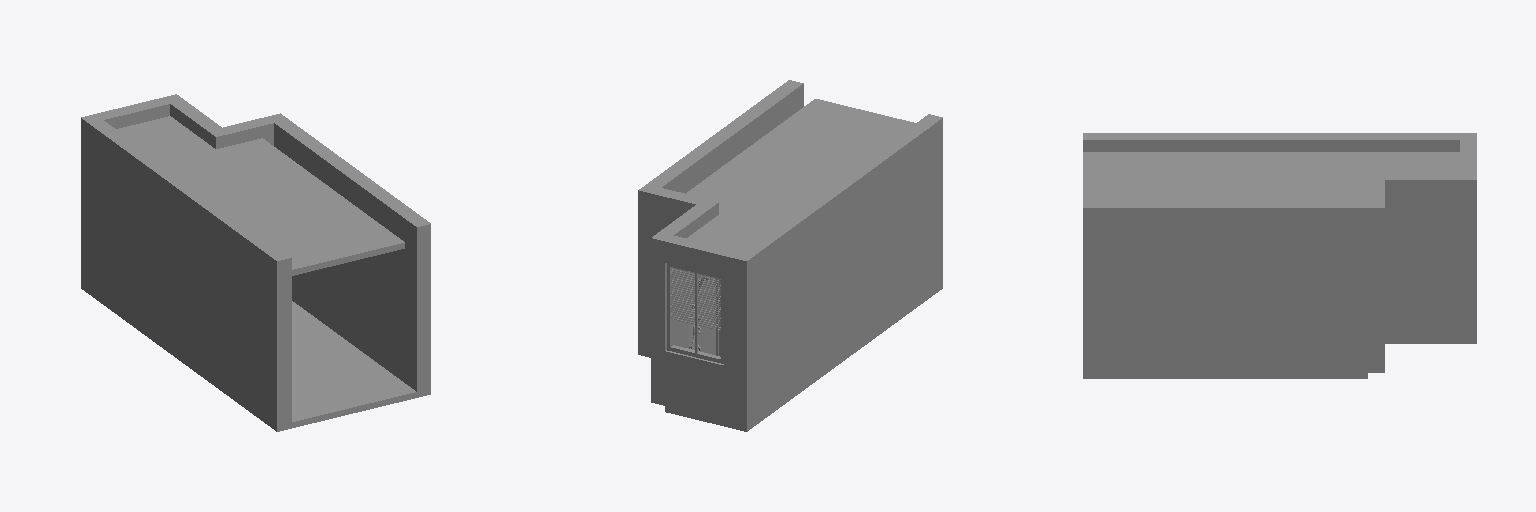
Rendered from bathroom11_layout.obj.
3 renders of one model, left to right at view 1: azimuth 30°, elevation 25°; view 2: azimuth 150°, elevation 25°; view 3: azimuth 270°, elevation 25°, orthographic.
Parts seen in each view (by area): view 1: wall.022, wall.018, ceiling.009, shower.003, floor.009, wall.020, wall.019; view 2: wall.022, shower.003, ceiling.009, wall.018, wall.020, wall.021, wall.019, blinds.004, window.010, floor.009; view 3: wall.018, shower.003, ceiling.009, wall.022, wall.020, floor.009.
Part boxes in pixels (x1,y1,x2,y2): wall.022: (135,154,291,425); wall.018: (274,120,430,391); ceiling.009: (81,116,404,278); shower.003: (81,94,221,324); floor.009: (131,301,430,431); wall.020: (208,113,288,148); wall.019: (105,98,169,128); wall.022: (787,114,942,385); shower.003: (651,205,800,431); ceiling.009: (686,99,939,279); wall.018: (648,80,803,193); wall.020: (638,184,718,357); wall.021: (665,345,723,419); wall.019: (665,236,730,276); blinds.004: (671,267,720,330); window.010: (667,263,723,363); floor.009: (798,283,942,393); wall.018: (1083,201,1367,372); shower.003: (1368,133,1476,343); ceiling.009: (1083,152,1459,200); wall.022: (1083,133,1367,151); wall.020: (1368,173,1384,372); floor.009: (1083,373,1367,378).
Bounding box in the file's own units: 2.65 × 2.8 × 5.85.